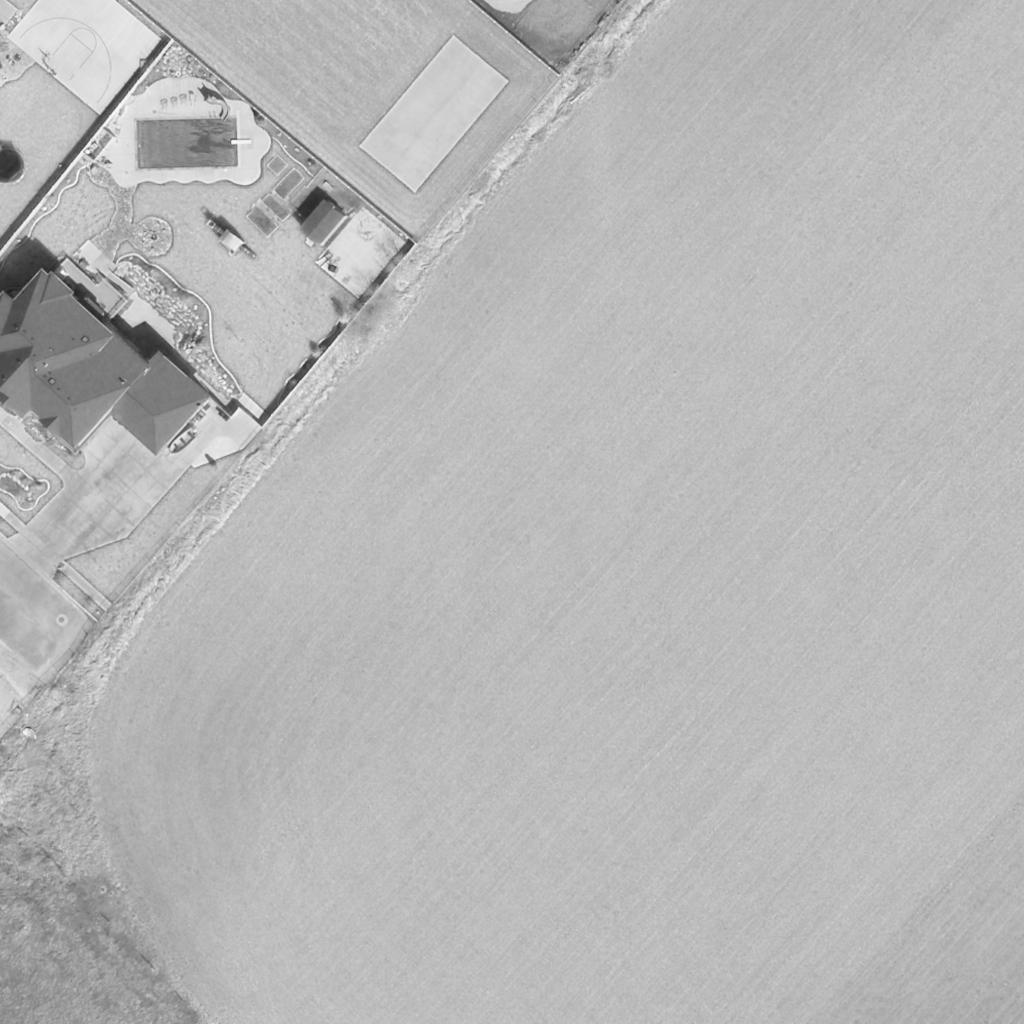vehicle: (163, 426, 197, 462)
